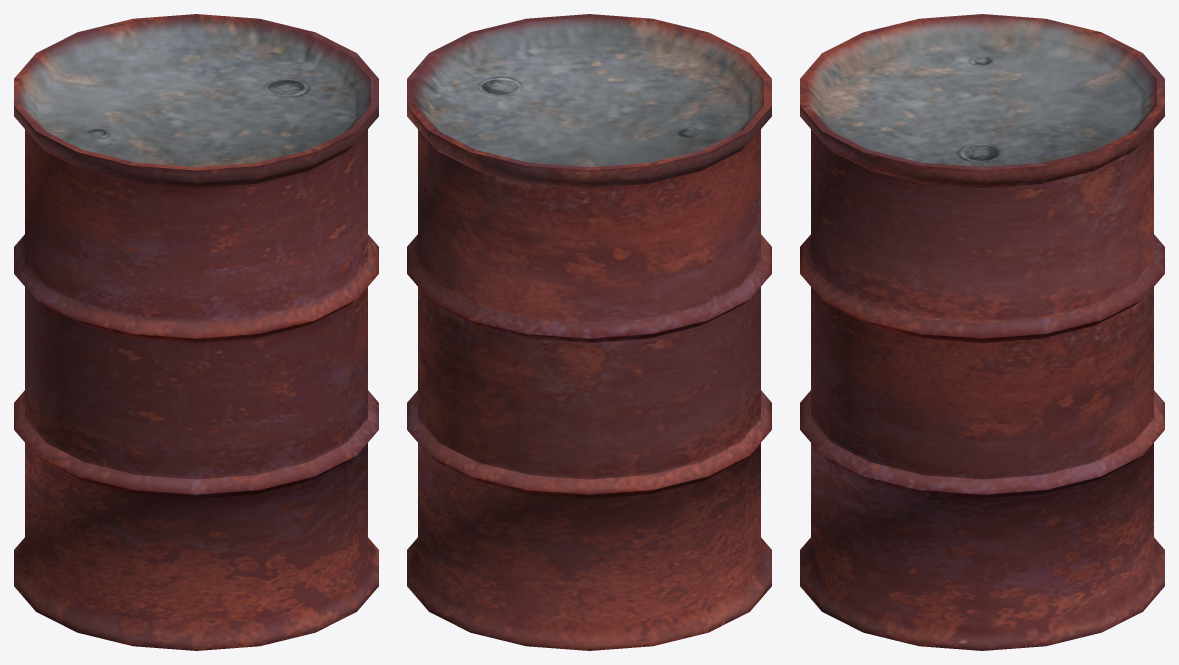
File: barrel01_prp.fbx
The picture shows the model from 3 angles, left to right: view 1: azimuth 30°, elevation 25°; view 2: azimuth 150°, elevation 25°; view 3: azimuth 270°, elevation 25°; orthographic projection.
Visible parts, largest first — view 1: Barrel; view 2: Barrel; view 3: Barrel.
Boxes of the visible parts, x1,y1,x2,y2 form: Barrel: [14, 14, 378, 650]; Barrel: [407, 14, 771, 650]; Barrel: [800, 14, 1164, 650].
Bounding box in the file's own units: 0.5709 × 0.817 × 0.5623.
